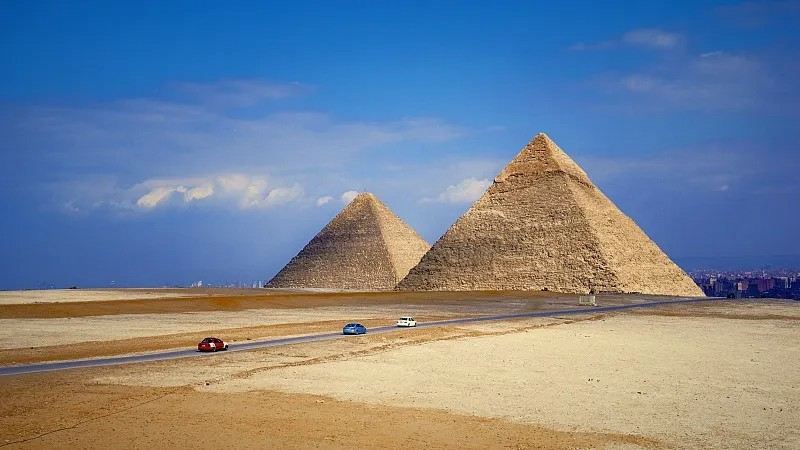Pyramid: (396, 132, 706, 301), (263, 193, 431, 291)
